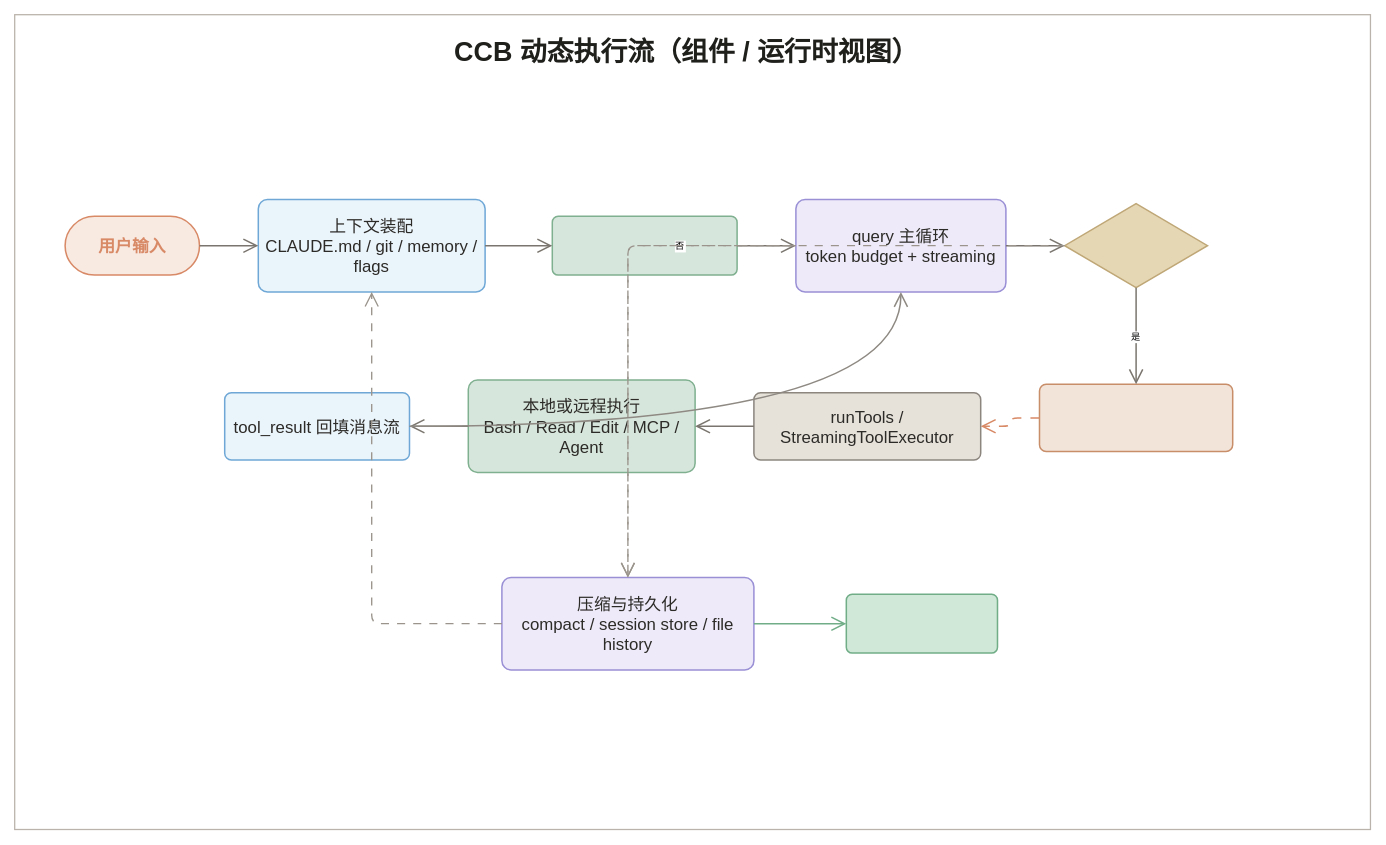
Image size: 1386x845. Some labels were removed from this diagram. The shapes that lost their labels are listed below. From the top down, each one's centre as x and y in pixels, then its label:
At (644,245): "QueryEngine 提交回合".
At (1136,245): "模型响应含 tool_use?".
At (1135,417): "权限 / Hook / 风险判定".
At (921,623): "最终回答".
